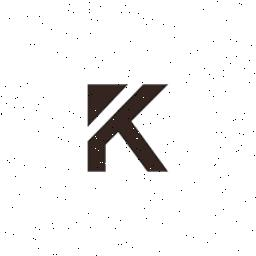k: (69, 65, 189, 195)
